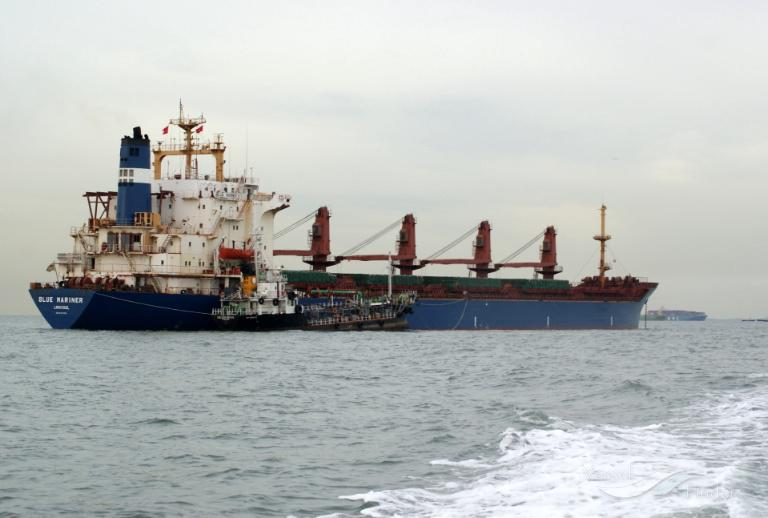OCR: (32, 291, 90, 319)
